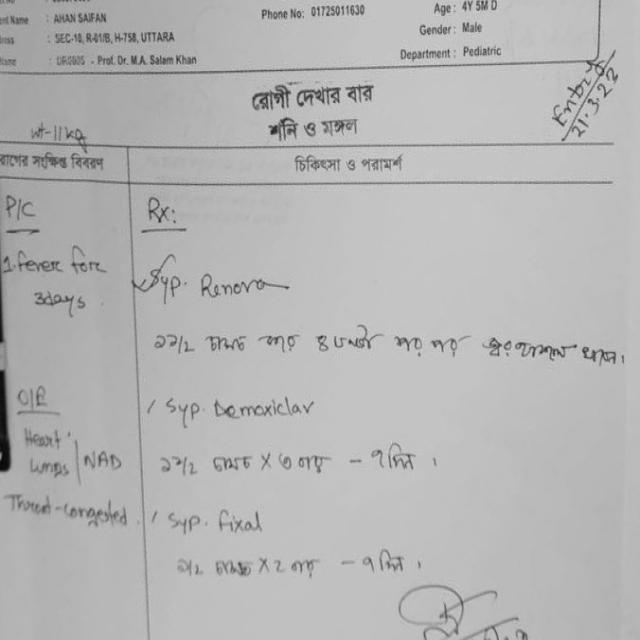medicine: (206, 392, 319, 431), (196, 269, 282, 299), (214, 503, 271, 542)
